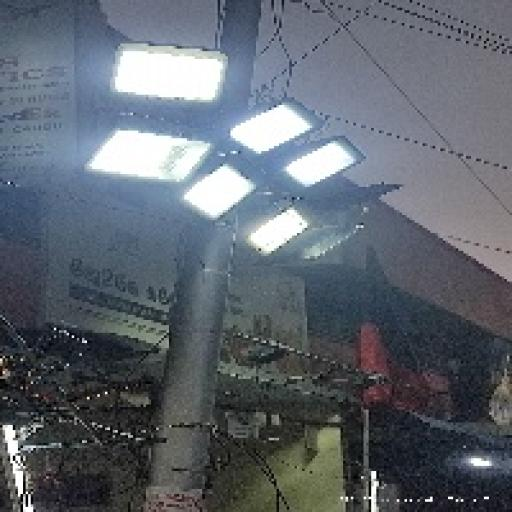Working: (102, 34, 240, 122), (78, 114, 212, 188), (271, 132, 364, 208), (216, 90, 322, 156), (169, 155, 257, 218), (236, 203, 310, 256)
